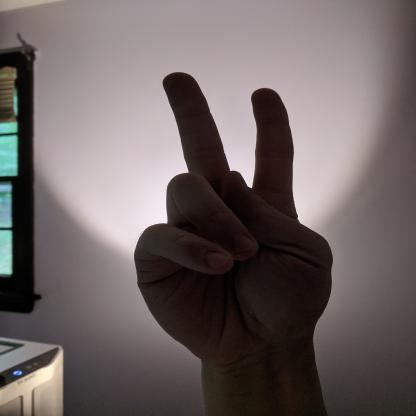K: (128, 68, 342, 363)
